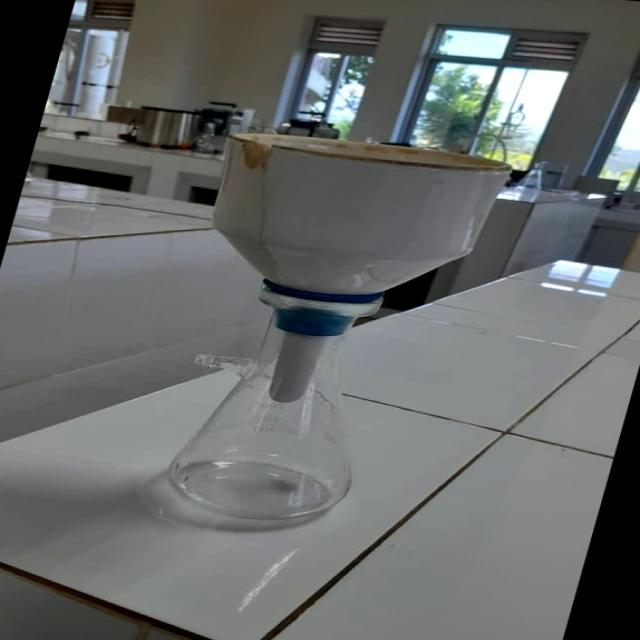Bunchen funnel: (123, 122, 546, 423)
